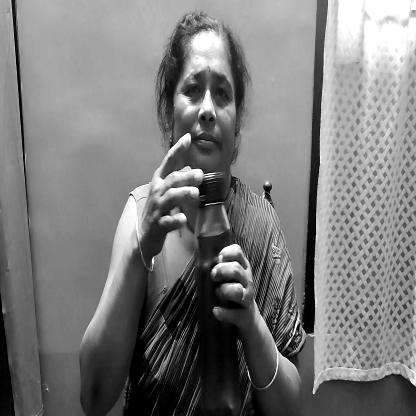Normal: (162, 22, 248, 200)
